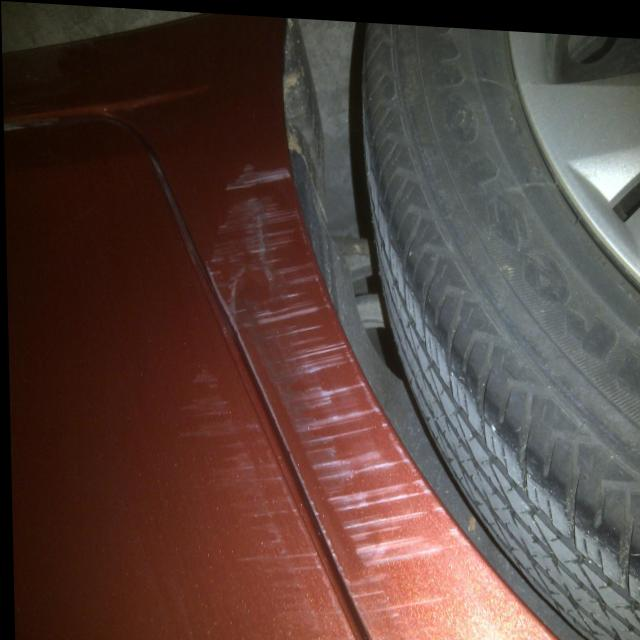Scratch: (219, 164, 451, 559)
